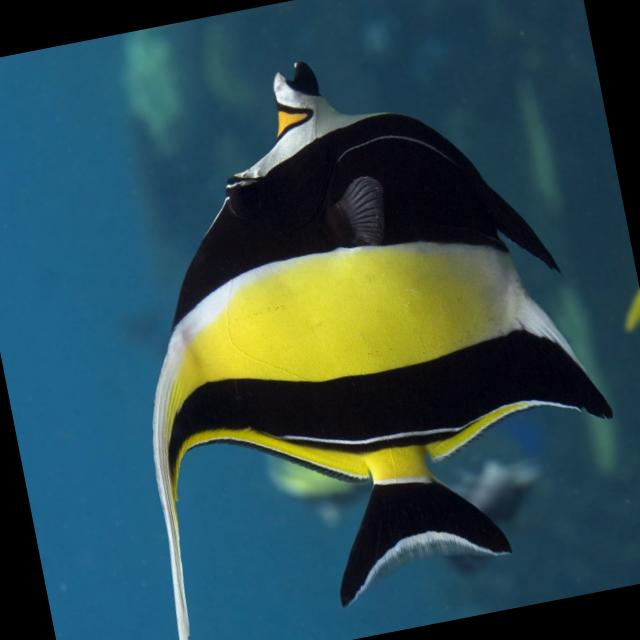MorishIdol: (69, 13, 640, 640)
